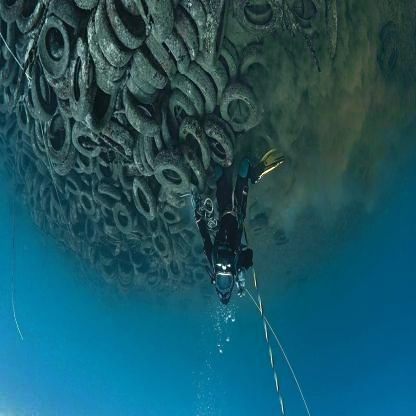tire: (100, 11, 161, 77), (216, 69, 263, 142), (147, 135, 197, 190), (42, 103, 78, 161), (108, 192, 144, 246), (28, 68, 61, 125), (34, 24, 67, 76), (74, 186, 105, 233), (75, 127, 116, 160), (117, 244, 143, 294)
